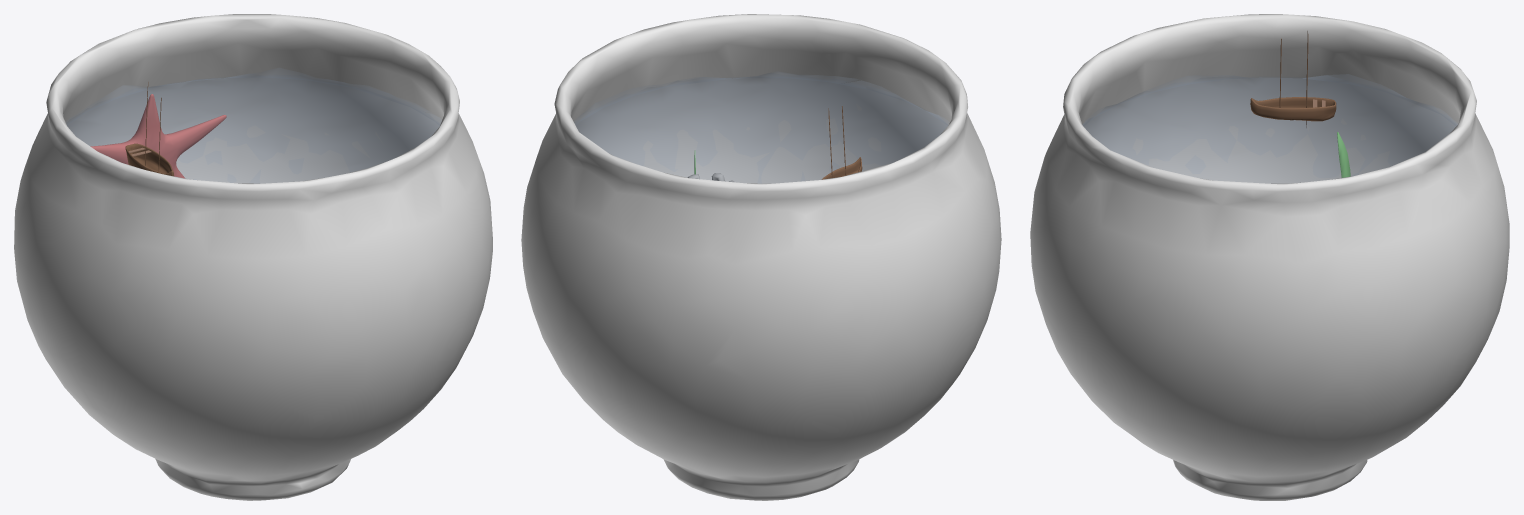
Rendered from fishbowl1.glb.
3 renders of one model, left to right at view 1: azimuth 30°, elevation 25°; view 2: azimuth 150°, elevation 25°; view 3: azimuth 270°, elevation 25°, orthographic.
Visible parts, largest first — view 1: bol, Plane.002, Water Surface Displaced, Plane.005; view 2: bol, Water Surface Displaced; view 3: bol, Plane.005, Water Surface Displaced.
Boxes of the visible parts, x1,y1,x2,y2 form: bol: [14, 14, 492, 500]; Plane.002: [90, 94, 226, 178]; Water Surface Displaced: [66, 74, 440, 125]; Plane.005: [125, 143, 173, 176]; bol: [521, 14, 1001, 500]; Water Surface Displaced: [574, 73, 947, 125]; bol: [1030, 14, 1509, 500]; Plane.005: [1250, 97, 1336, 121]; Water Surface Displaced: [1083, 75, 1457, 126].
Size of the model in its own units: 1.98 by 1.79 by 1.98.
